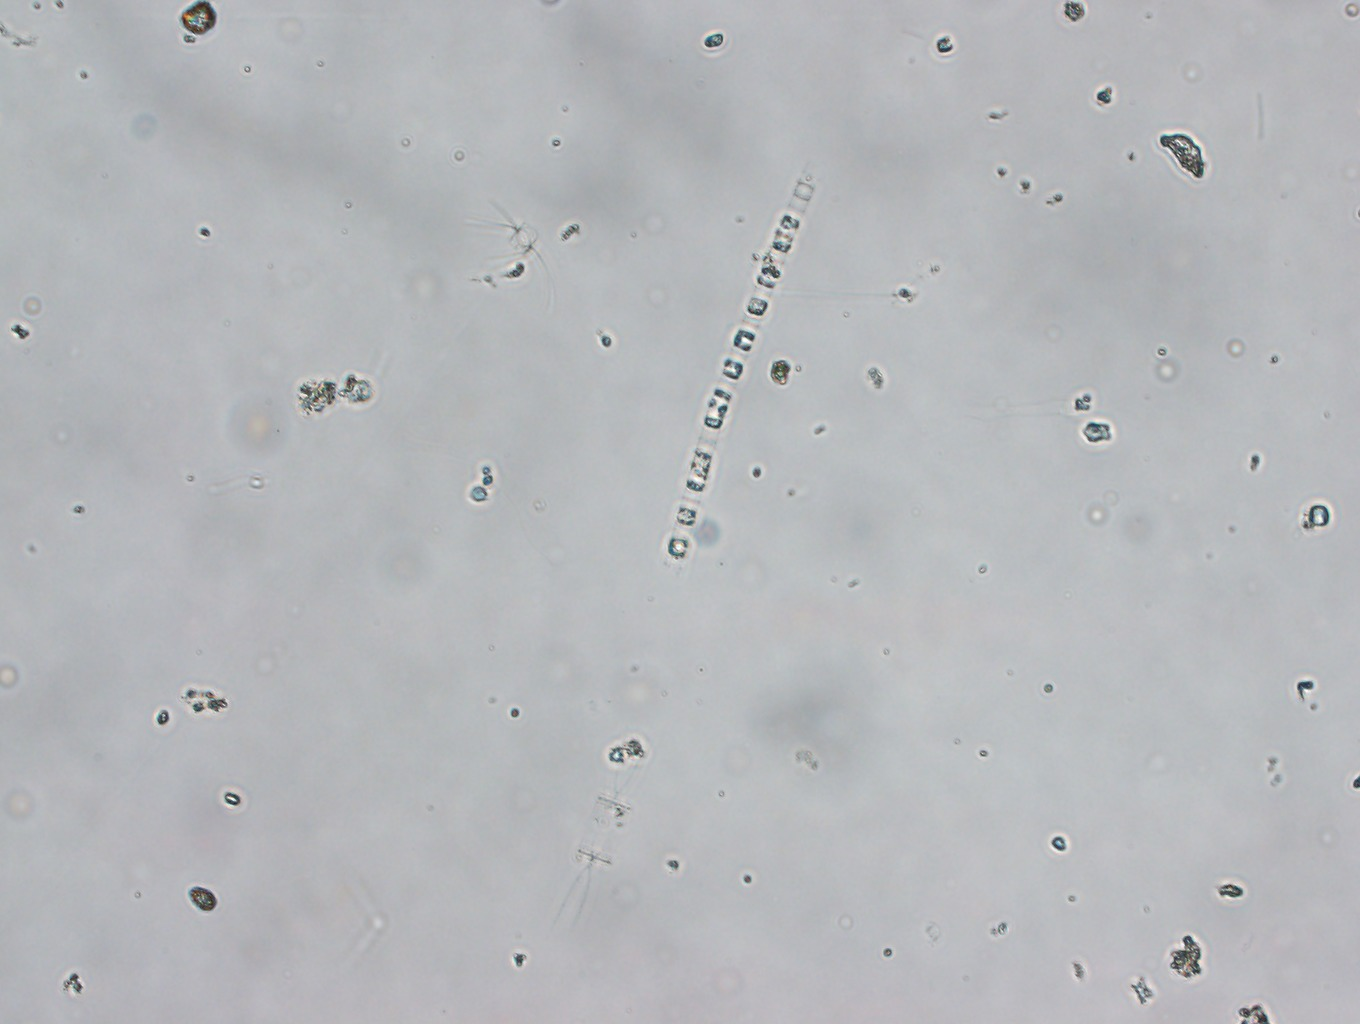skeletonema: (652, 179, 813, 559)
